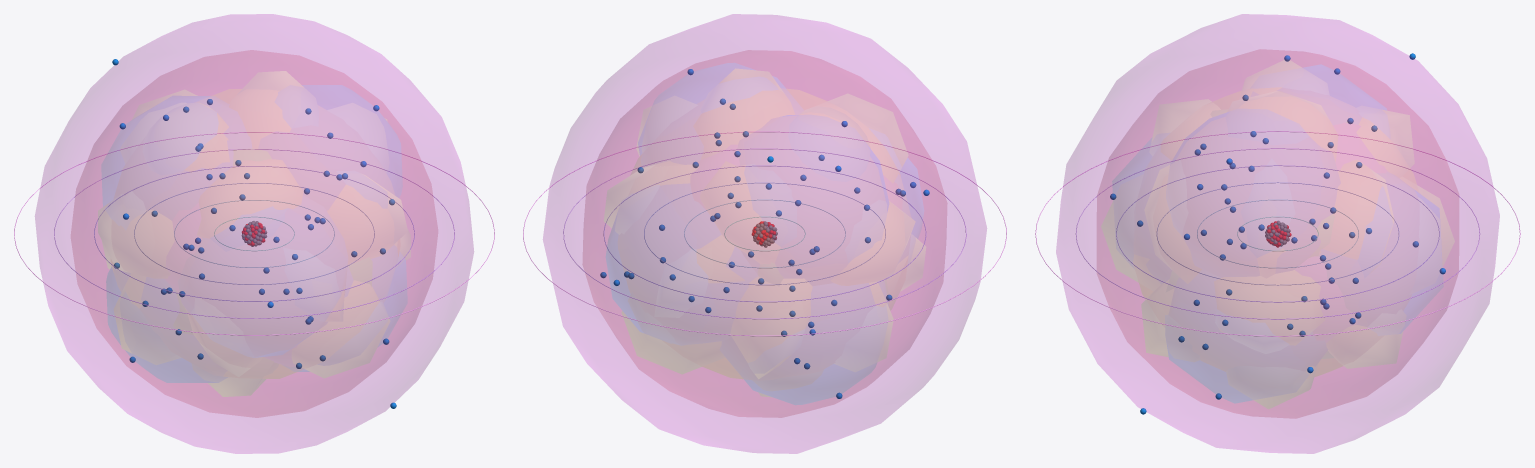
The picture shows the model from 3 angles, left to right: view 1: azimuth 30°, elevation 25°; view 2: azimuth 150°, elevation 25°; view 3: azimuth 270°, elevation 25°; orthographic projection.
Parts seen in each view (by area): view 1: Orbital_6s_0, Orbital_5s_0, Orbital_5p_2, Orbital_5p_1, Orbital_5d_1, Nivel_n6, Orbital_5d_2, Nivel_n5, Orbital_5d_3, Nivel_n4, Nivel_n3; view 2: Orbital_6s_0, Orbital_5s_0, Orbital_5p_2, Orbital_5d_2, Orbital_5p_0, Orbital_5d_3, Nivel_n6, Nivel_n5, Orbital_4s_0, Nivel_n4, Orbital_5d_1, Nivel_n3; view 3: Orbital_6s_0, Orbital_5s_0, Orbital_5d_2, Orbital_5p_1, Orbital_5p_0, Nivel_n6, Orbital_5d_4, Nivel_n5, Nivel_n4, Orbital_5d_0, Orbital_5d_3, Orbital_4s_0 (+1 smaller).
Boxes of the visible parts, left/top/right/bottom form: Orbital_6s_0: left=35, top=14, right=473, bottom=453; Orbital_5s_0: left=71, top=50, right=437, bottom=417; Orbital_5p_2: left=106, top=85, right=402, bottom=382; Orbital_5p_1: left=102, top=96, right=406, bottom=371; Orbital_5d_1: left=98, top=71, right=410, bottom=396; Nivel_n6: left=14, top=132, right=494, bottom=335; Orbital_5d_2: left=133, top=90, right=389, bottom=377; Nivel_n5: left=54, top=149, right=454, bottom=318; Orbital_5d_3: left=103, top=178, right=407, bottom=376; Nivel_n4: left=94, top=166, right=414, bottom=301; Nivel_n3: left=134, top=183, right=374, bottom=284; Orbital_6s_0: left=543, top=14, right=986, bottom=453; Orbital_5s_0: left=583, top=50, right=946, bottom=417; Orbital_5p_2: left=638, top=63, right=876, bottom=404; Orbital_5d_2: left=622, top=94, right=907, bottom=373; Orbital_5p_0: left=606, top=158, right=923, bottom=332; Orbital_5d_3: left=604, top=165, right=925, bottom=378; Nivel_n6: left=523, top=131, right=1006, bottom=336; Nivel_n5: left=563, top=148, right=966, bottom=319; Orbital_4s_0: left=631, top=89, right=907, bottom=378; Nivel_n4: left=603, top=165, right=926, bottom=302; Orbital_5d_1: left=720, top=69, right=914, bottom=396; Nivel_n3: left=644, top=182, right=885, bottom=285; Orbital_6s_0: left=1056, top=14, right=1499, bottom=453; Orbital_5s_0: left=1097, top=49, right=1458, bottom=418; Orbital_5d_2: left=1142, top=100, right=1413, bottom=367; Orbital_5p_1: left=1167, top=65, right=1386, bottom=402; Orbital_5p_0: left=1112, top=138, right=1443, bottom=333; Nivel_n6: left=1035, top=131, right=1520, bottom=336; Orbital_5d_4: left=1101, top=186, right=1454, bottom=281; Nivel_n5: left=1075, top=148, right=1480, bottom=319; Nivel_n4: left=1116, top=165, right=1439, bottom=302; Orbital_5d_0: left=1242, top=60, right=1313, bottom=408; Orbital_5d_3: left=1145, top=165, right=1393, bottom=269; Orbital_4s_0: left=1139, top=91, right=1416, bottom=376.
Size of the model in its own units: 1.8 by 1.63 by 1.8.
